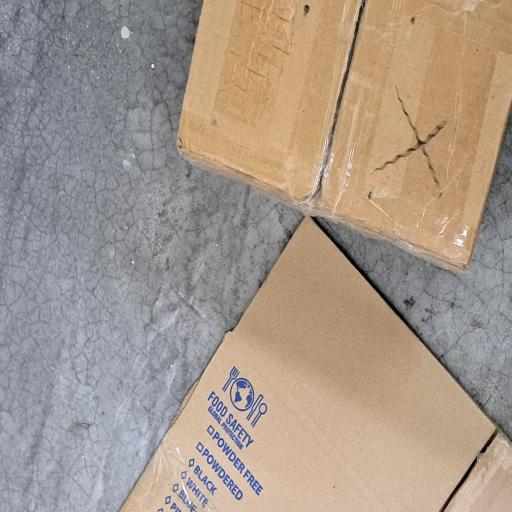cardboard: (0, 157, 222, 512), (185, 236, 383, 512)
